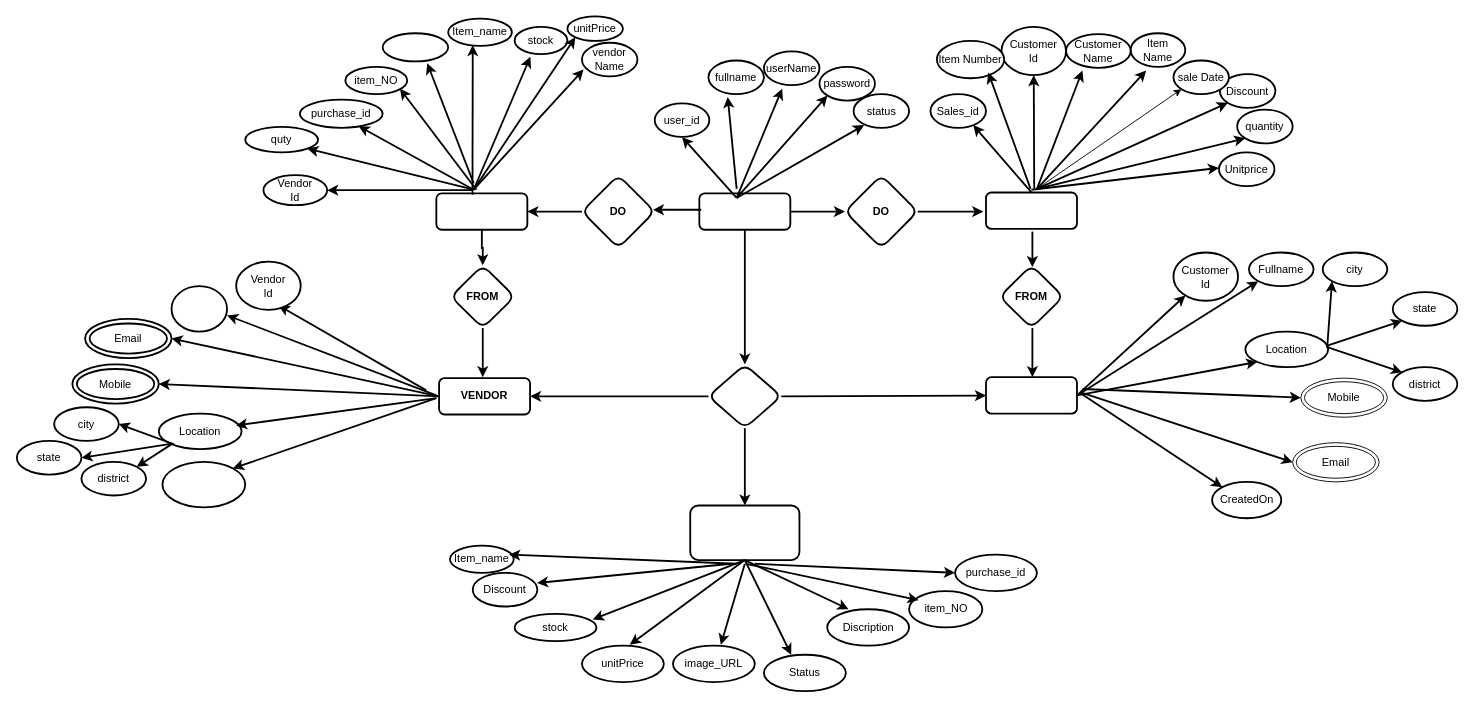
The diagram is 1473 pixels wide and 708 high, and some of its shapes have lost their labels. Here are the shapes that lost their labels. From the top down, the centre of each, then its label:
At point 415,47: "purchase Date".
At point 481,211: "PURCHASE".
At point 744,211: "USER".
At point 1031,210: "SALE".
At point 199,308: "fullNmae".
At point 744,396: "ADD".
At point 1031,395: "CUSTOMER".
At point 203,484: "Created On".
At point 744,532: "ITEM".
